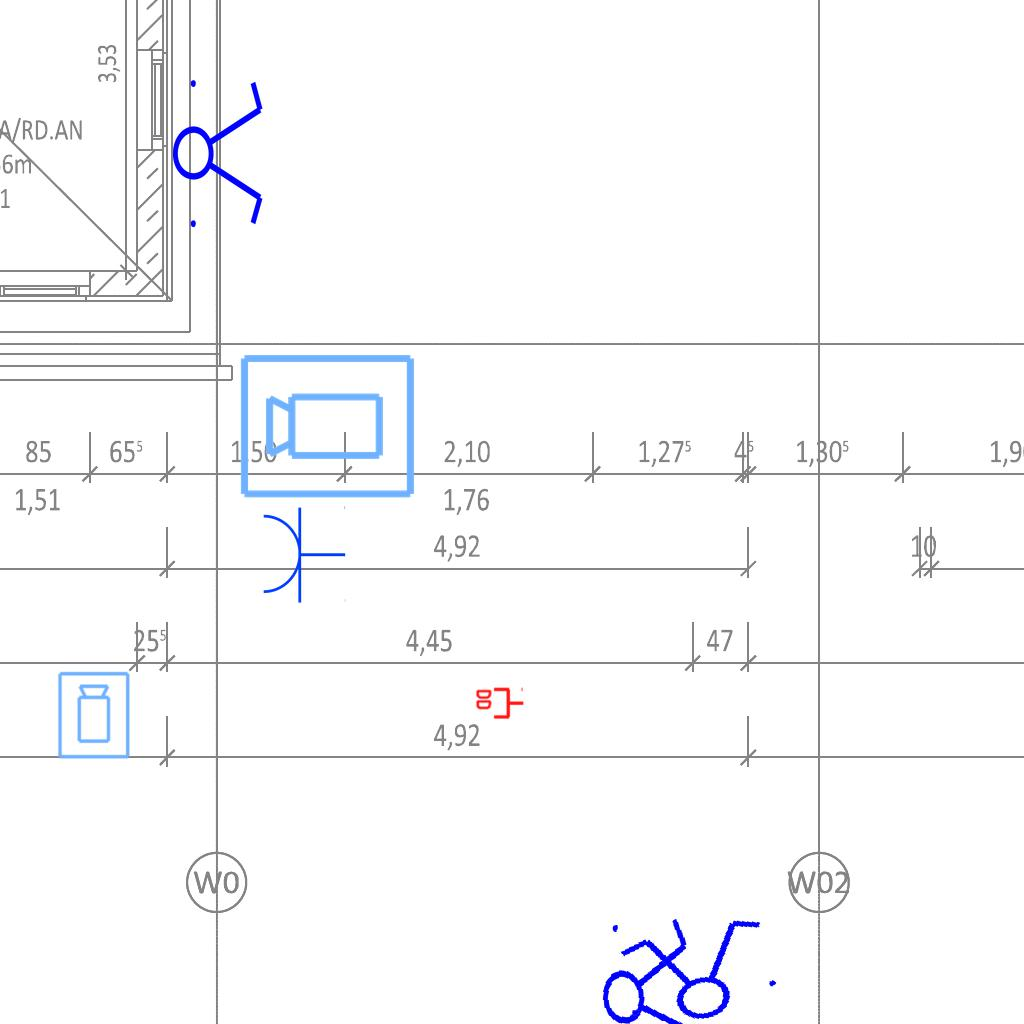Datenanschluss_zweifach: (474, 687, 525, 721)
KFO_Kamera_mit_Festobjektiv: (237, 348, 419, 502), (56, 670, 133, 761)
Schukosteckdose_einfach: (259, 504, 346, 604)
Serienschalter: (604, 908, 790, 1024), (171, 68, 267, 236), (591, 903, 707, 1024)
